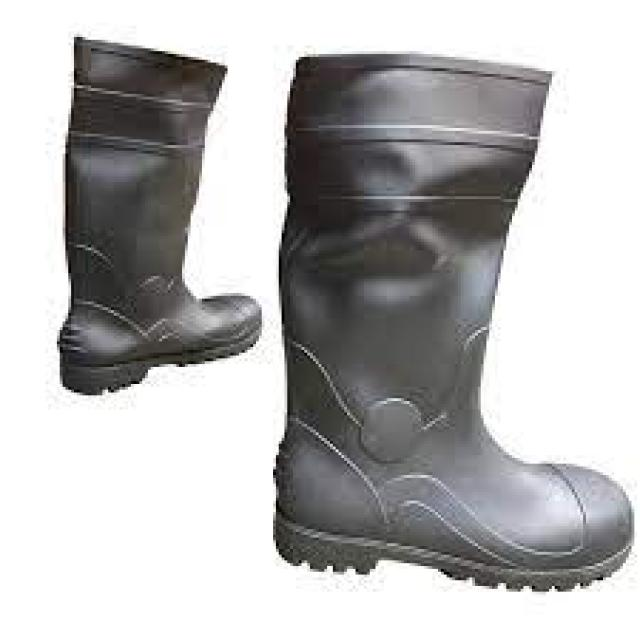shoes: (275, 54, 634, 589), (60, 38, 261, 393)
